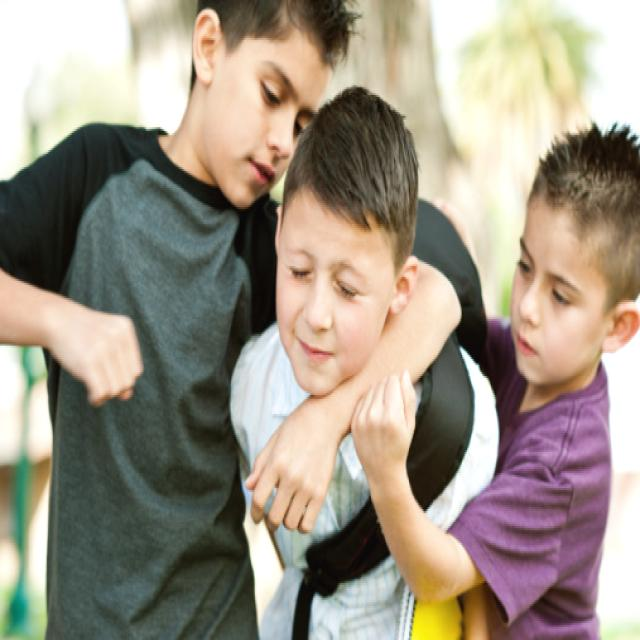fight: (165, 0, 484, 578)
